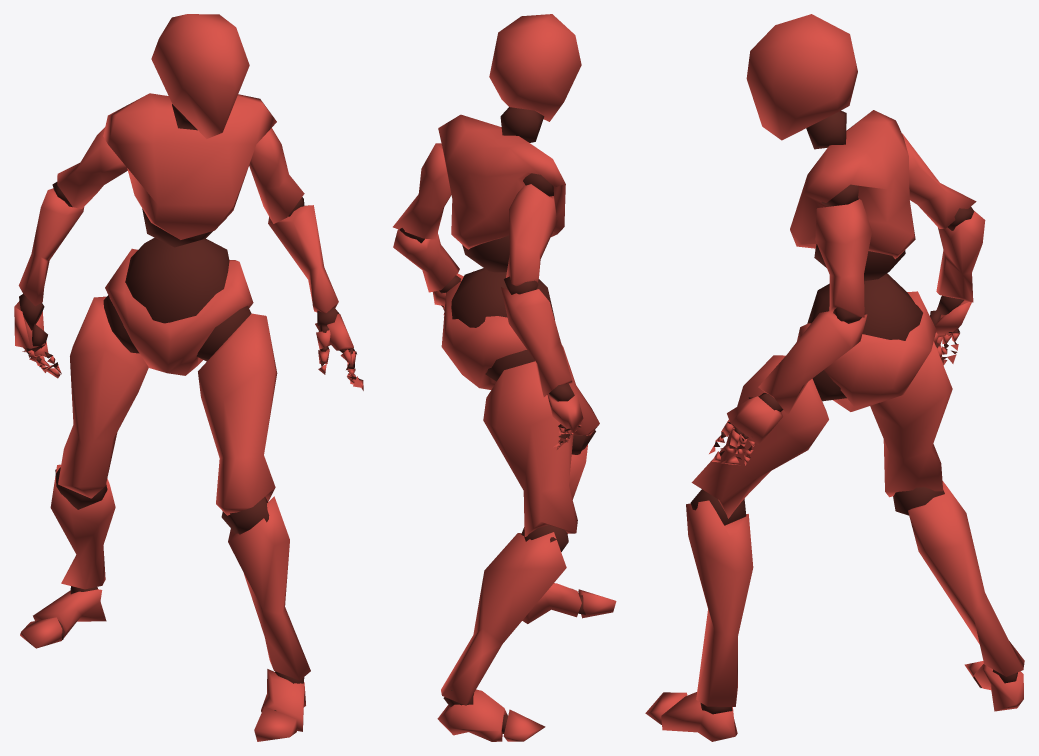
3 renders of one model, left to right at view 1: azimuth 30°, elevation 25°; view 2: azimuth 150°, elevation 25°; view 3: azimuth 270°, elevation 25°, orthographic. The views are drawn at different scales.
Visible parts, largest first — view 1: Beta_Surface; view 2: Beta_Surface; view 3: Beta_Surface.
Boxes of the visible parts, x1,y1,x2,y2 form: Beta_Surface: [14, 14, 363, 741]; Beta_Surface: [393, 14, 616, 741]; Beta_Surface: [645, 14, 1024, 741].
Size of the model in its own units: 5.46 by 14.6 by 7.2.
